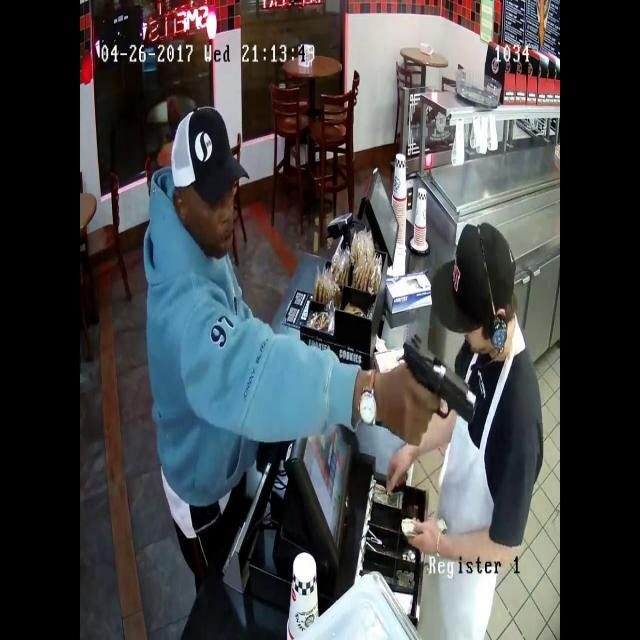weapon: (390, 316, 490, 444)
